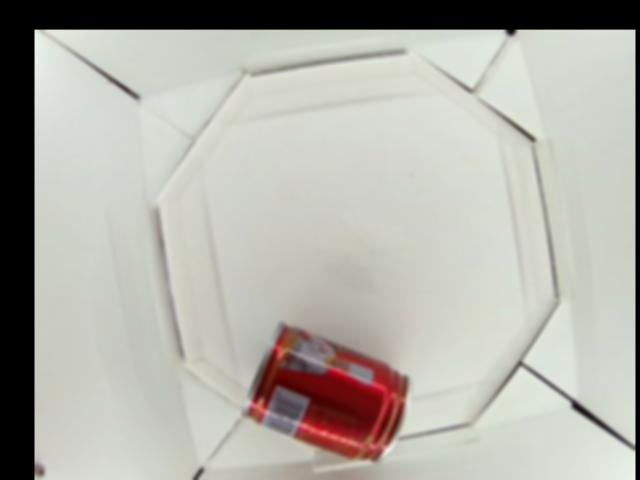Bottle: (240, 321, 416, 467)
